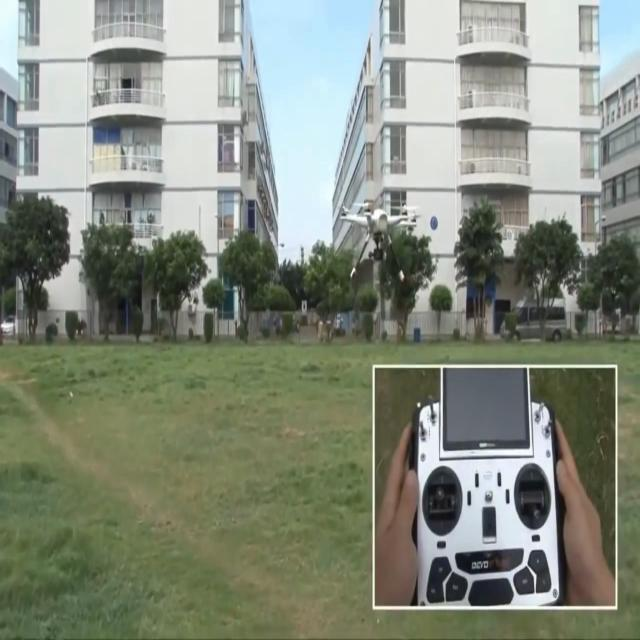drone: (339, 199, 421, 283)
